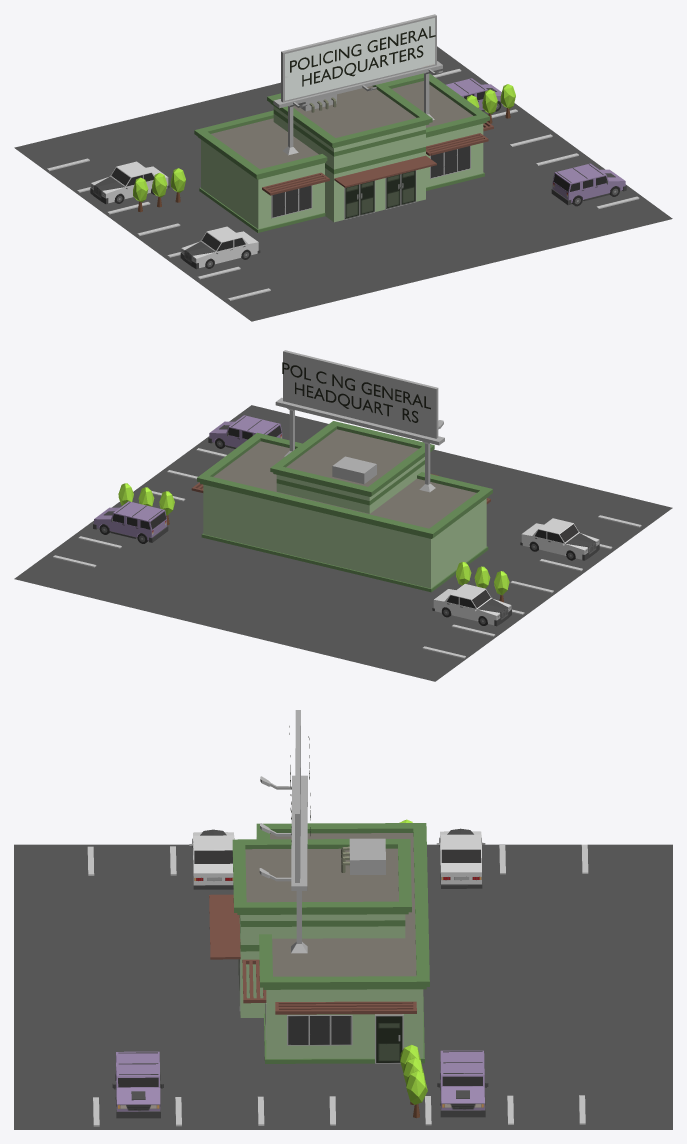
File: Policing.gltf
3 views of the same model, one above another, from view 1: azimuth 30°, elevation 25°; view 2: azimuth 150°, elevation 25°; view 3: azimuth 270°, elevation 25° (orthographic). The views are drawn at different scales.
Visible parts, largest first — view 1: Building_Super Market_Cube.025, Road Tile_Plane.003, Road Concrete Tile_Plane.010, Props_BillBoard_large_Cube.528, Vehicle_SUV_Cube.096, Vehicle_Car_Cube.050, Vehicle_Car_Cube.001, Text.001, Vehicle_SUV_Cube.001; view 2: Building_Super Market_Cube.025, Road Tile_Plane.003, Road Concrete Tile_Plane.010, Props_BillBoard_large_Cube.528, Vehicle_SUV_Cube.001, Vehicle_Car_Cube.001, Vehicle_Car_Cube.050, Vehicle_SUV_Cube.096, Text.002, Props_Roof_prop_Cylinder.032; view 3: Road Tile_Plane.003, Road Concrete Tile_Plane.010, Building_Super Market_Cube.025, Props_BillBoard_large_Cube.528, Vehicle_SUV_Cube.001, Vehicle_SUV_Cube.096, Vehicle_Car_Cube.001, Vehicle_Car_Cube.050, Props_Roof_prop_Cylinder.032, Natures_Bush_01_Cylinder.008.
Part boxes in pixels (bbox=[...]): Building_Super Market_Cube.025: bbox=[194, 73, 493, 232]; Road Tile_Plane.003: bbox=[168, 46, 672, 283]; Road Concrete Tile_Plane.010: bbox=[14, 110, 404, 321]; Props_BillBoard_large_Cube.528: bbox=[273, 14, 442, 155]; Vehicle_SUV_Cube.096: bbox=[551, 163, 626, 206]; Vehicle_Car_Cube.050: bbox=[180, 226, 260, 269]; Vehicle_Car_Cube.001: bbox=[90, 161, 169, 204]; Text.001: bbox=[290, 26, 435, 86]; Vehicle_SUV_Cube.001: bbox=[446, 78, 502, 111]; Building_Super Market_Cube.025: bbox=[191, 421, 492, 592]; Road Tile_Plane.003: bbox=[14, 405, 518, 644]; Road Concrete Tile_Plane.010: bbox=[282, 470, 672, 681]; Props_BillBoard_large_Cube.528: bbox=[275, 350, 444, 492]; Vehicle_SUV_Cube.001: bbox=[93, 501, 168, 543]; Vehicle_Car_Cube.001: bbox=[432, 584, 511, 626]; Vehicle_Car_Cube.050: bbox=[520, 518, 599, 560]; Vehicle_SUV_Cube.096: bbox=[208, 415, 282, 448]; Text.002: bbox=[282, 362, 430, 422]; Props_Roof_prop_Cylinder.032: bbox=[332, 456, 376, 484]; Road Tile_Plane.003: bbox=[14, 948, 672, 1129]; Road Concrete Tile_Plane.010: bbox=[14, 844, 672, 949]; Building_Super Market_Cube.025: bbox=[209, 823, 429, 1063]; Props_BillBoard_large_Cube.528: bbox=[259, 710, 307, 953]; Vehicle_SUV_Cube.001: bbox=[437, 1050, 488, 1117]; Vehicle_SUV_Cube.096: bbox=[112, 1051, 163, 1118]; Vehicle_Car_Cube.001: bbox=[436, 828, 485, 888]; Vehicle_Car_Cube.050: bbox=[189, 829, 234, 889]; Props_Roof_prop_Cylinder.032: bbox=[341, 838, 385, 874]; Natures_Bush_01_Cylinder.008: bbox=[406, 1071, 427, 1118].
Size of the model in its own units: 40.94 by 15.14 by 40.
Materials: 31 (29 with a texture image).
